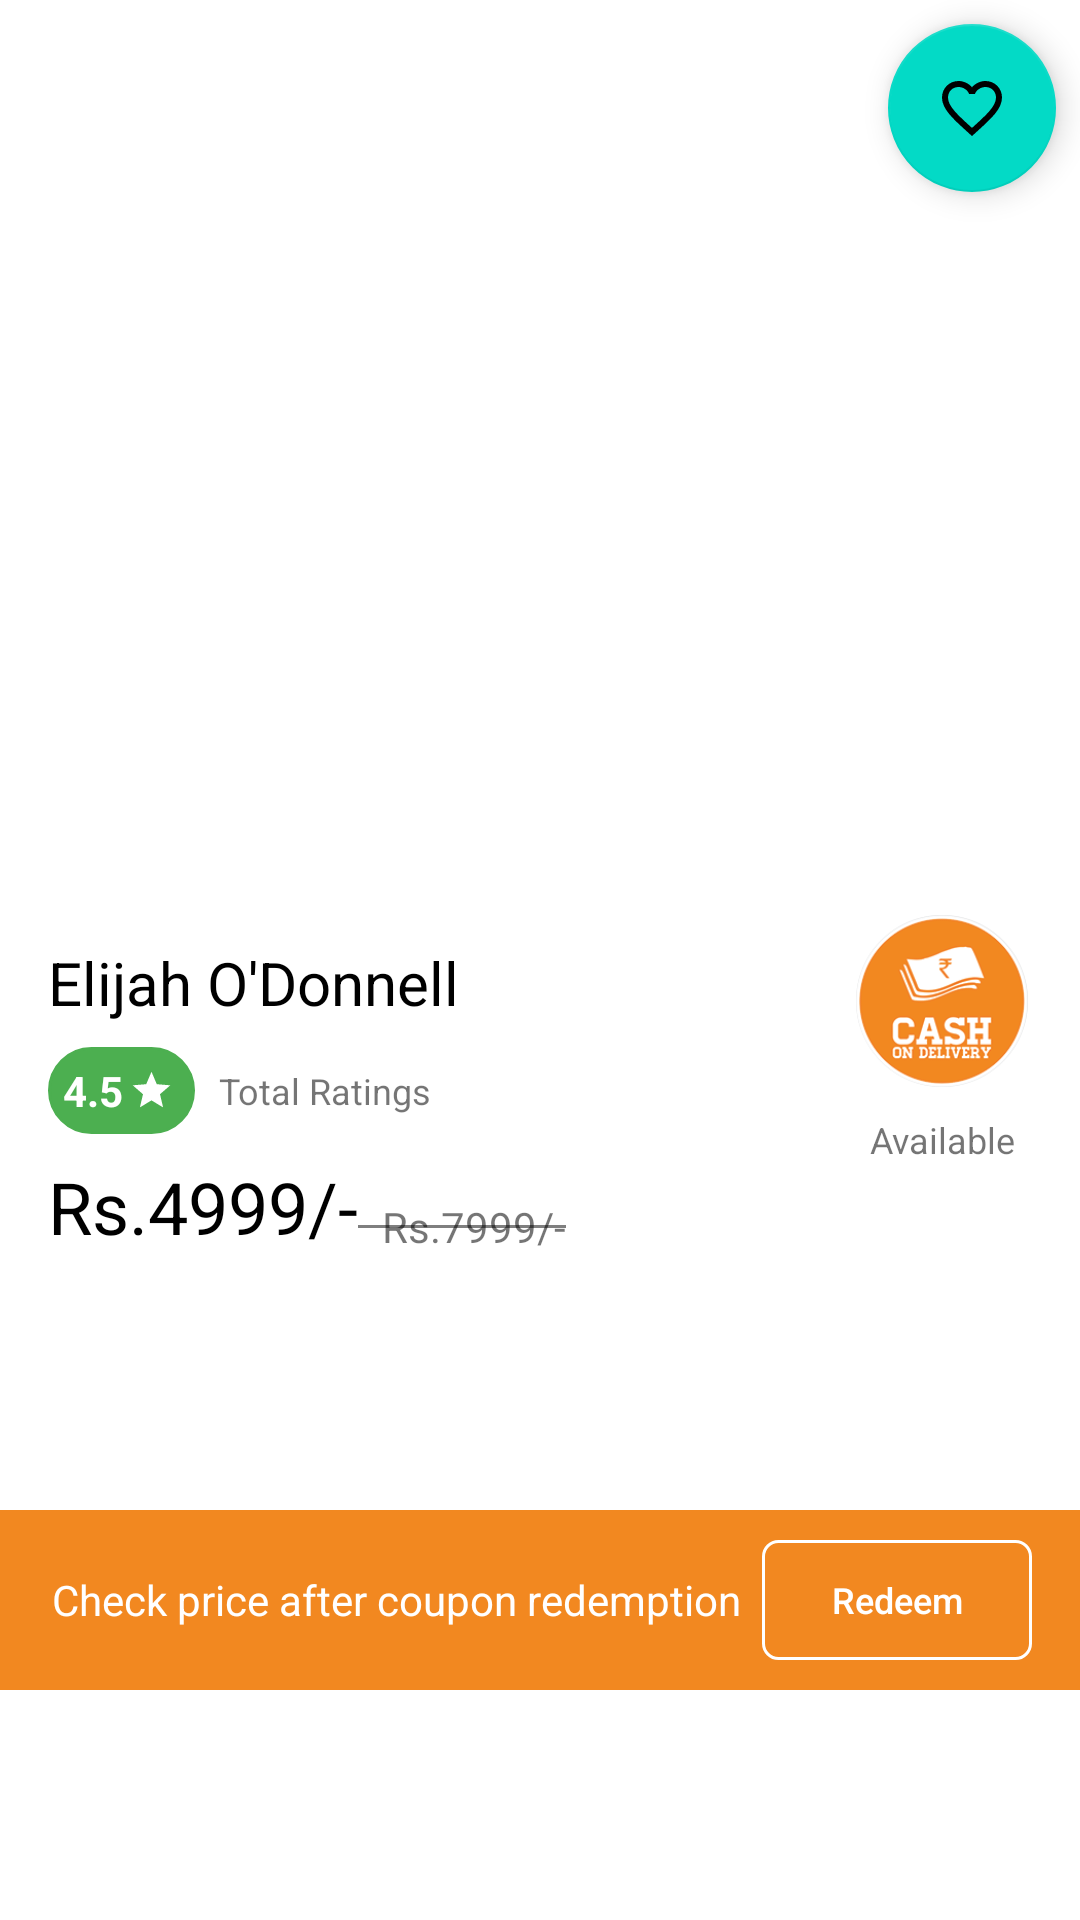

Screen size 1080 x 1920. Icon name, then its box in pixels as (x1, y1, x2, y2):
love: (888, 24, 1056, 192)
star: (133, 1072, 170, 1107)
